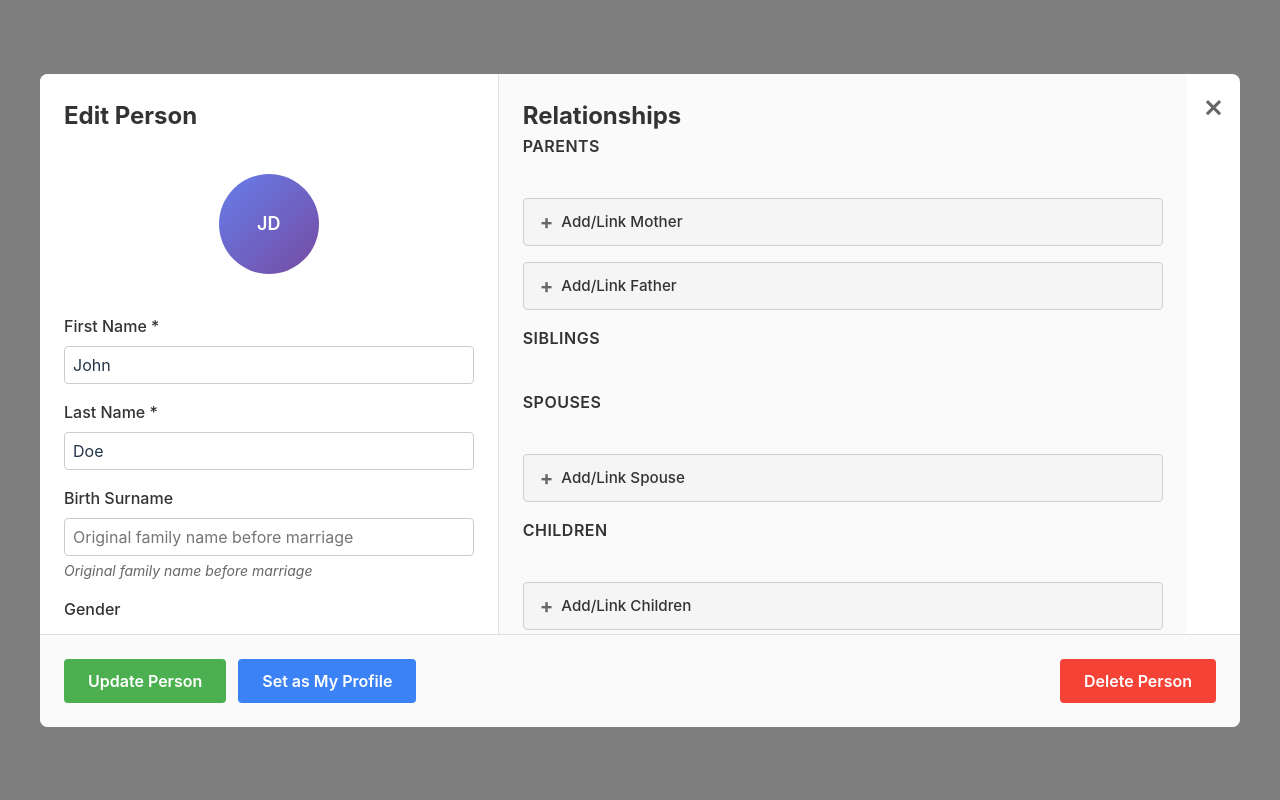
Test: PersonModal - Spouses Section with CollapsibleActionPanel (Issue #54) › AC5: Link Existing shows LinkExistingSpouse › should show LinkExistingSpouse when Link Existing Person is clicked
Click the button with class "trigger-button" showing "+ Add/Link Spouse": {"x": 623, "y": 478} [523, 454, 1163, 502]
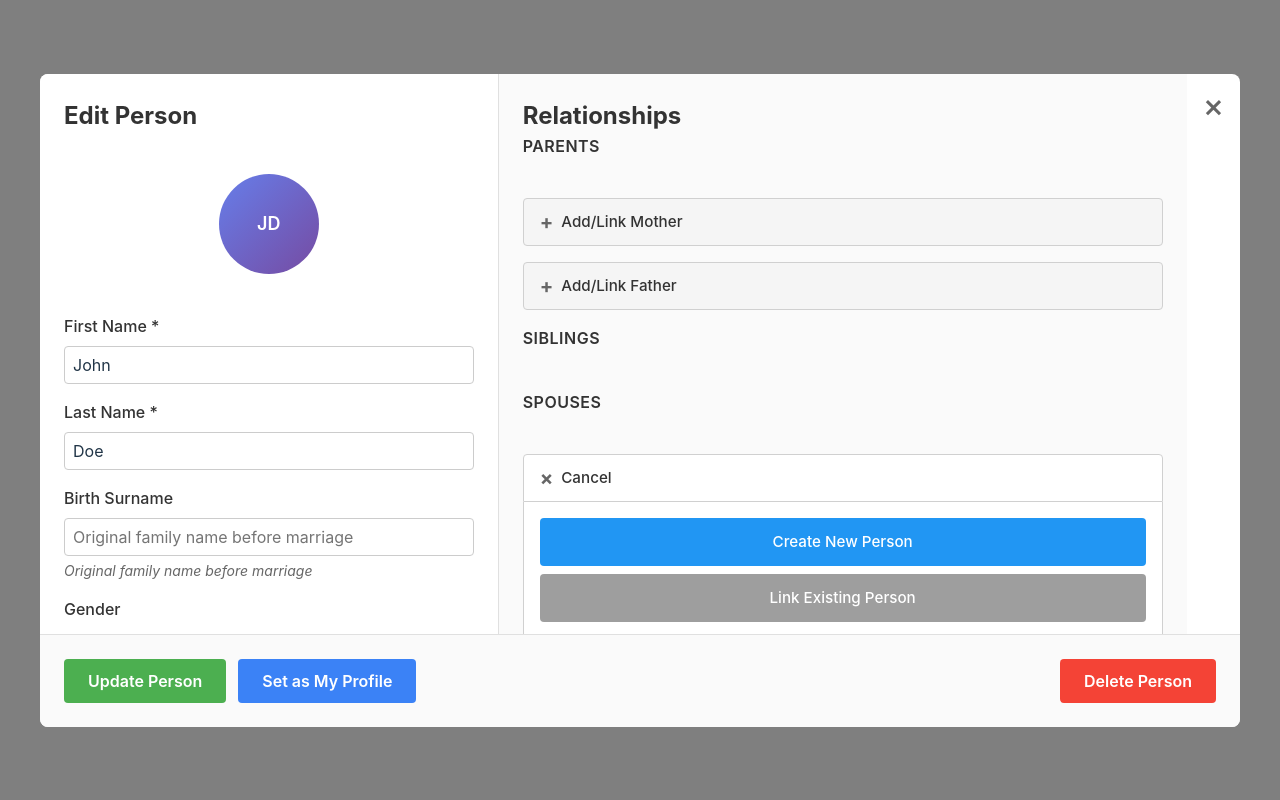
// WHEN user clicks Link Existing Person
Click the button "Link Existing Person": {"x": 843, "y": 598} [540, 574, 1146, 622]
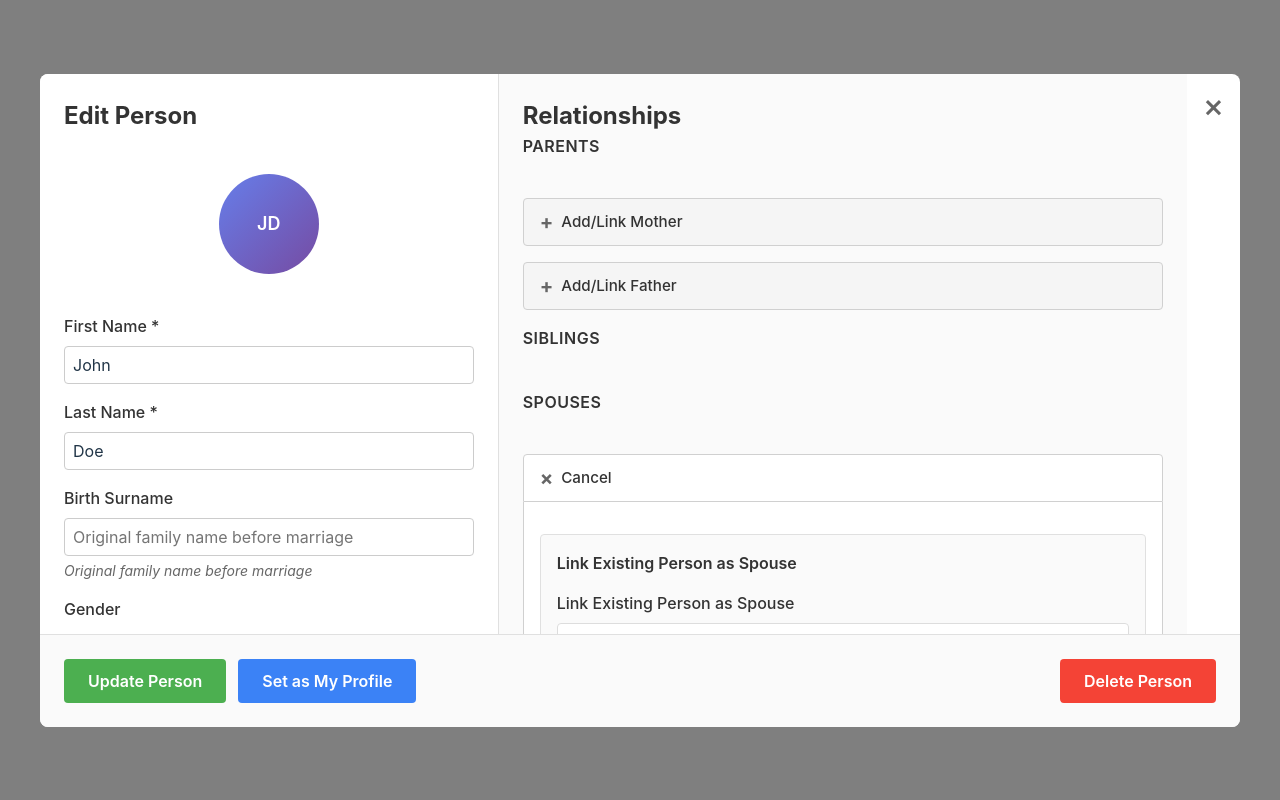
Now the element with class "link-existing-spouse" shows "Link Existing Person as Spouse", box [557, 552, 797, 572]
